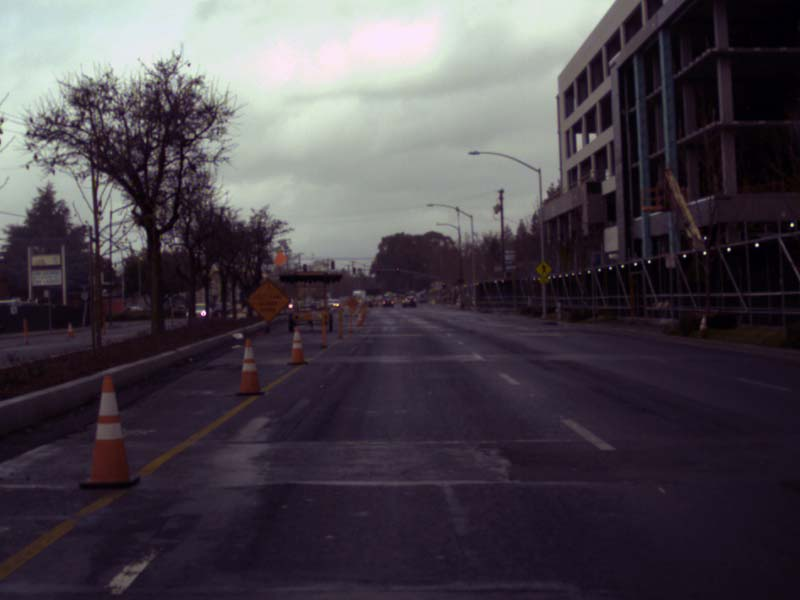Green: (352, 268, 354, 274)
Red: (396, 267, 398, 274), (442, 281, 444, 288), (377, 267, 379, 273)
